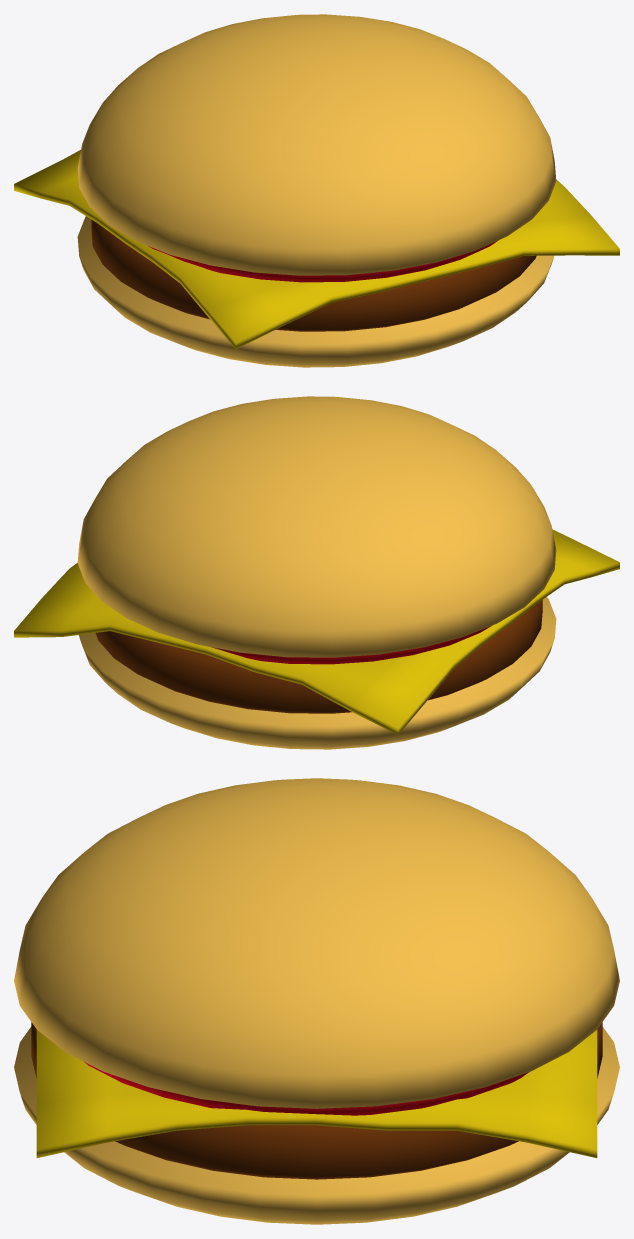
File: slop.glb
3 renders of one model, top to bottom at view 1: azimuth 30°, elevation 25°; view 2: azimuth 150°, elevation 25°; view 3: azimuth 270°, elevation 25°, orthographic. The views are drawn at different scales.
Visible parts, largest first — view 1: Sphere, Plane, Cylinder, Cylinder.001; view 2: Sphere, Plane, Cylinder, Cylinder.001; view 3: Sphere, Plane, Cylinder, Cylinder.001.
Part boxes in pixels (box(x1,y1,x2,y2)): Sphere: box(77, 14, 556, 367); Plane: box(14, 150, 619, 348); Cylinder: box(91, 219, 536, 331); Cylinder.001: box(148, 240, 498, 282); Sphere: box(77, 396, 556, 749); Plane: box(14, 529, 619, 734); Cylinder: box(95, 600, 542, 713); Cylinder.001: box(212, 625, 491, 664); Sphere: box(14, 778, 619, 1224); Plane: box(36, 1030, 597, 1157); Cylinder: box(31, 1022, 602, 1179); Cylinder.001: box(84, 1062, 529, 1115).
Bounding box in the file's own units: 0.3282 × 0.1766 × 0.3282.
